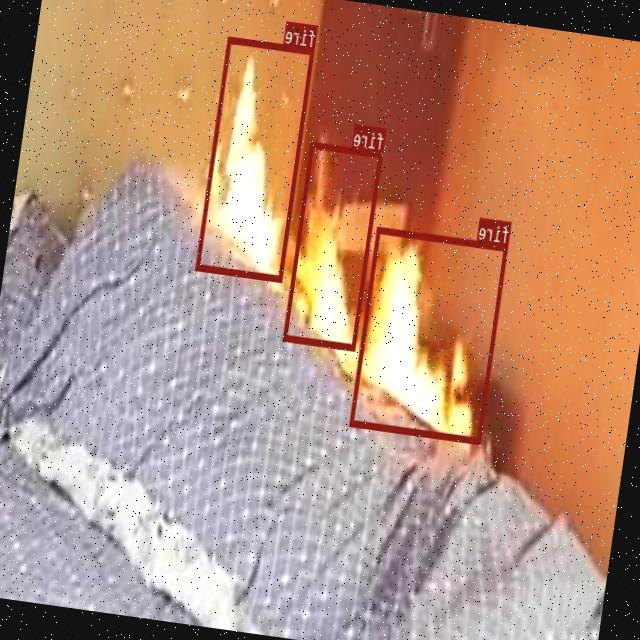fire: (351, 226, 508, 443), (196, 36, 316, 281), (284, 141, 384, 350)
